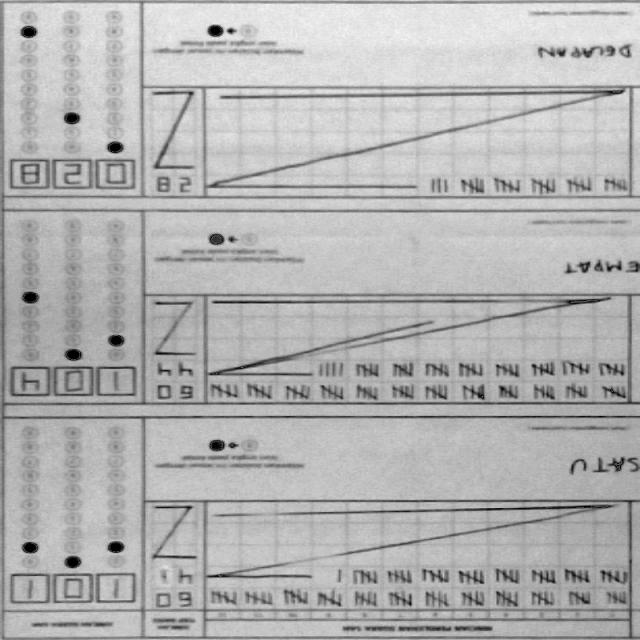Suara: (7, 150, 134, 192), (7, 567, 133, 603), (6, 364, 134, 398)
